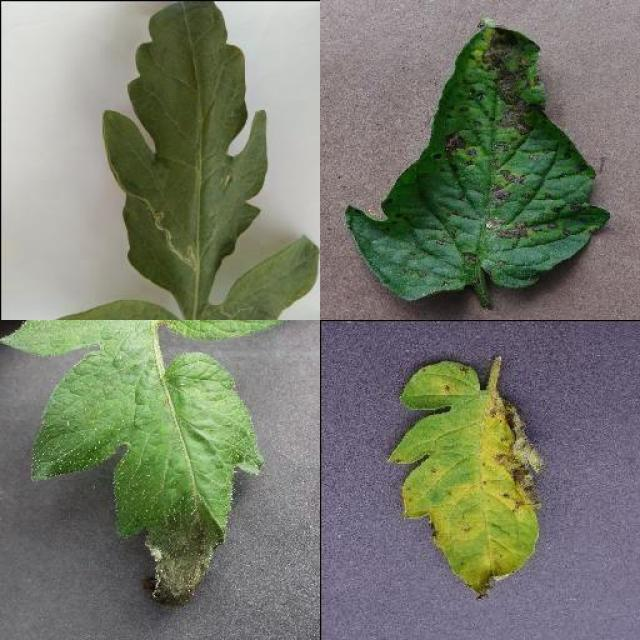Early Blight: (350, 19, 610, 301)
Late Blight: (0, 320, 262, 607)
Septoria: (382, 359, 542, 601)
